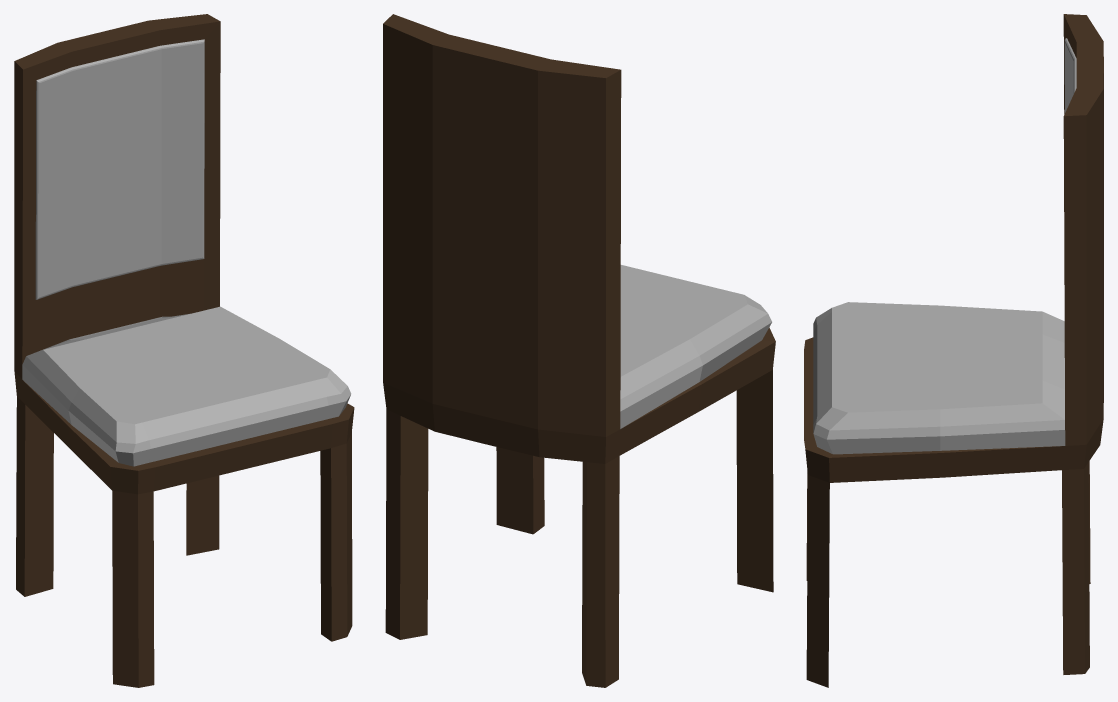
The model's file is cafechair.fbx.
3 views of the same model, side by side, from view 1: azimuth 30°, elevation 25°; view 2: azimuth 150°, elevation 25°; view 3: azimuth 270°, elevation 25° (orthographic). The views are drawn at different scales.
Visible parts, largest first — view 1: Cube; view 2: Cube; view 3: Cube.
Part boxes in pixels (x1,y1,x2,y2): Cube: [14, 14, 354, 687]; Cube: [383, 14, 775, 687]; Cube: [804, 14, 1103, 687].
Size of the model in its own units: 79.27 by 164 by 79.43.
